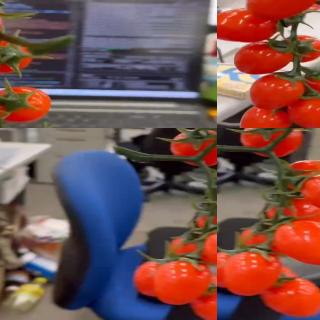tomato: (152, 260, 212, 308), (222, 252, 282, 298), (267, 217, 320, 266), (262, 275, 320, 317), (217, 8, 280, 44), (233, 40, 294, 75), (250, 72, 306, 109), (240, 128, 305, 159), (134, 258, 184, 298), (0, 86, 52, 123), (265, 196, 320, 229), (170, 130, 217, 168), (246, 0, 320, 22), (166, 230, 214, 262), (236, 221, 284, 253), (217, 249, 253, 288), (238, 105, 292, 128), (0, 37, 34, 73), (289, 94, 320, 128), (197, 226, 217, 275), (287, 34, 320, 62), (192, 284, 217, 320), (302, 172, 320, 215), (195, 205, 217, 238), (303, 67, 320, 100)
